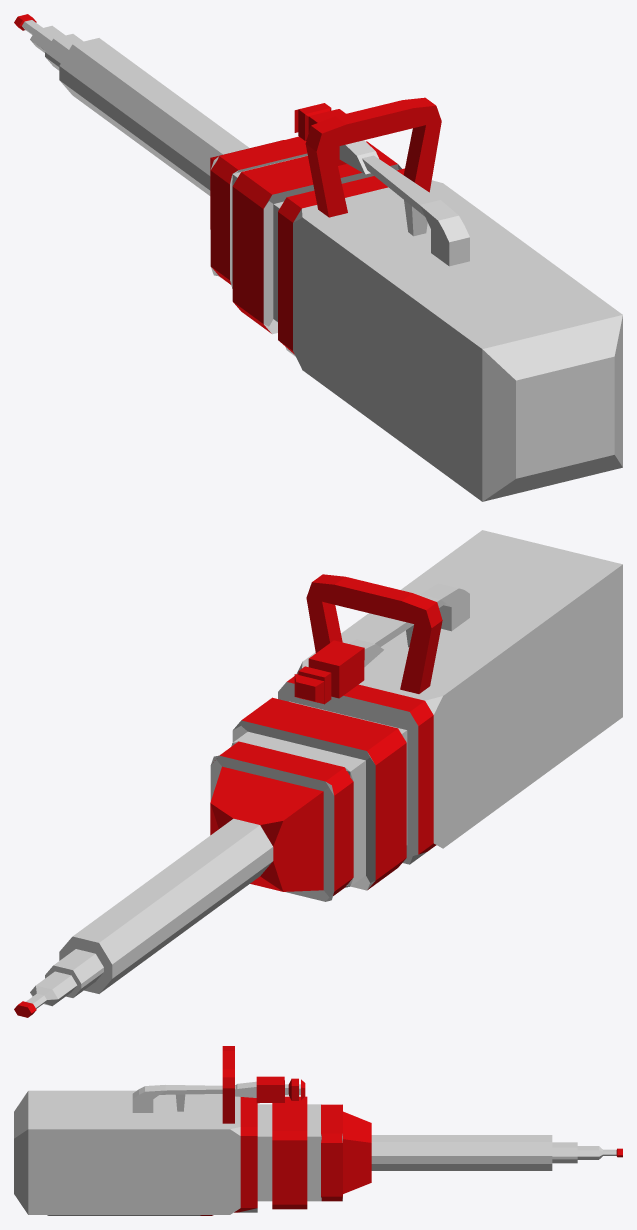
Rendered from minigun_laser.fbx.
3 views of the same model, one above another, from view 1: azimuth 30°, elevation 25°; view 2: azimuth 150°, elevation 25°; view 3: azimuth 270°, elevation 25° (orthographic). The views are drawn at different scales.
Parts seen in each view (by area): view 1: Cube; view 2: Cube; view 3: Cube.
Boxes of the visible parts, <box> form: Cube: <box>14,14,622,501</box>; Cube: <box>14,530,622,1017</box>; Cube: <box>14,1046,622,1215</box>.
Bounding box in the file's own units: 193 × 327 × 1266.
